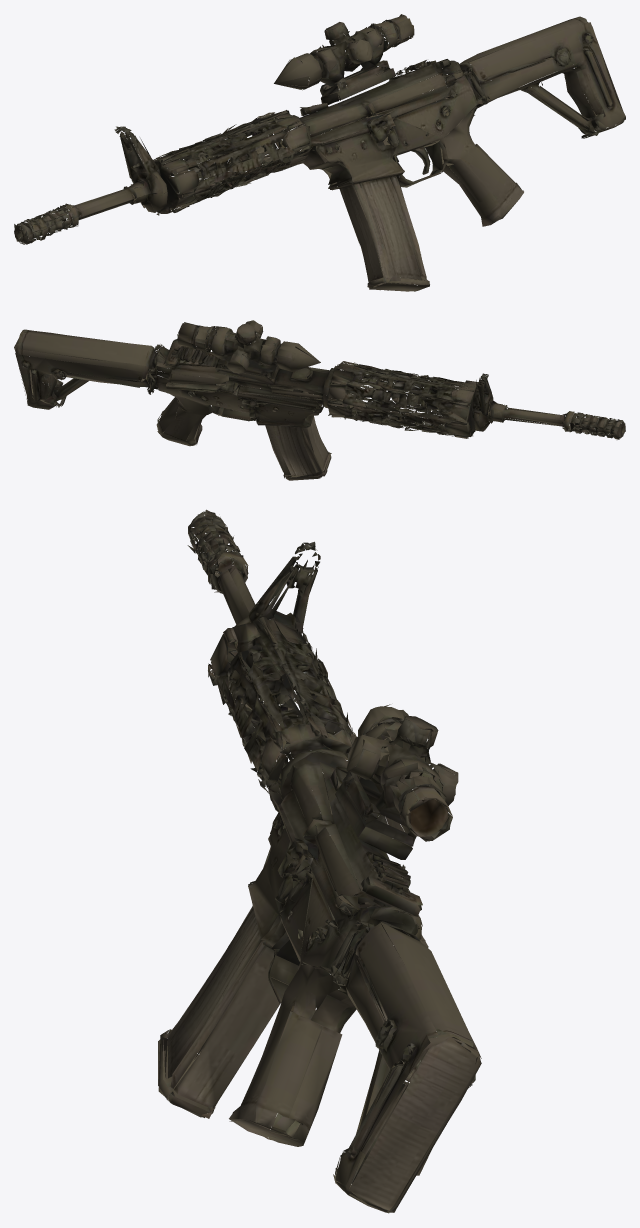
Rendered from mer_assault_rifle_LOD1.glb.
3 views of the same model, one above another, from view 1: azimuth 30°, elevation 25°; view 2: azimuth 150°, elevation 25°; view 3: azimuth 270°, elevation 25° (orthographic). The views are drawn at different scales.
Visible parts, largest first — view 1: tripo_node_cba70034-4cd7-456c-9bc8-af55f574e1a5; view 2: tripo_node_cba70034-4cd7-456c-9bc8-af55f574e1a5; view 3: tripo_node_cba70034-4cd7-456c-9bc8-af55f574e1a5.
Part boxes in pixels (x1,y1,x2,y2): tripo_node_cba70034-4cd7-456c-9bc8-af55f574e1a5: (14, 14, 625, 291); tripo_node_cba70034-4cd7-456c-9bc8-af55f574e1a5: (14, 320, 625, 480); tripo_node_cba70034-4cd7-456c-9bc8-af55f574e1a5: (158, 509, 481, 1213).
Bounding box in the file's own units: 1 × 0.3348 × 0.253.
1 material, 1 textured.
